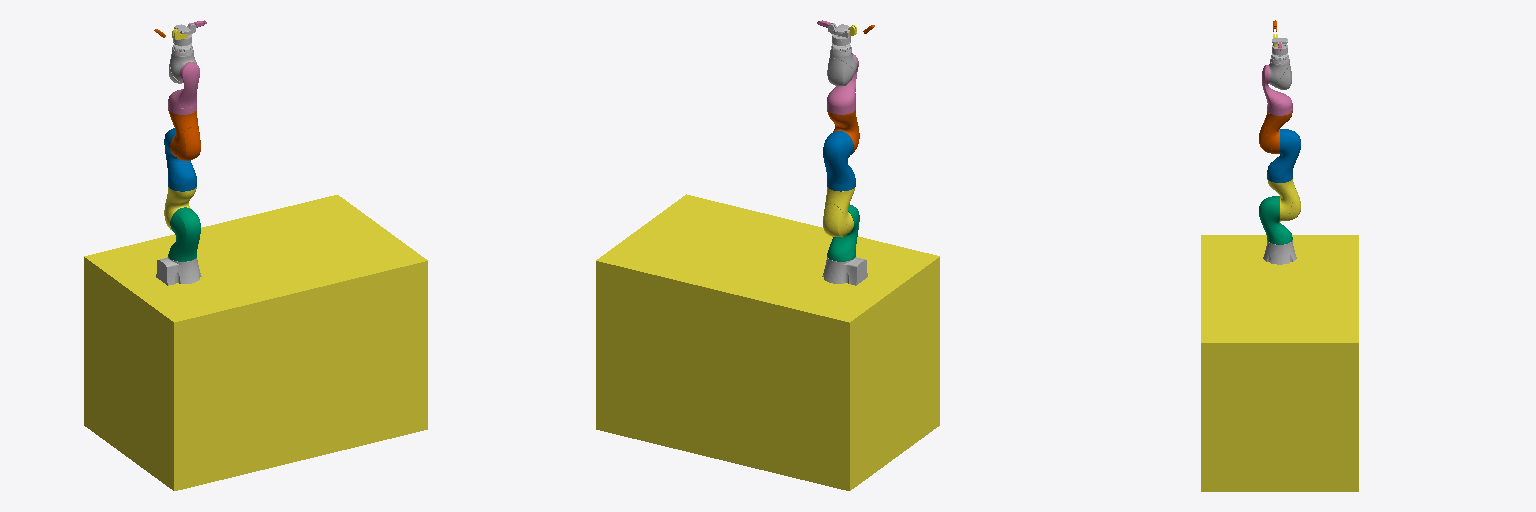
The robot description file, URDF, robot "iiwa7":
<robot name="iiwa7">
<link name="world">
    <inertial>
        <origin rpy="0.0 0.0 0.0" xyz="0.0 0.0 0.0"/>
        <mass value="0.0"/>
        <inertia ixx="0.0" ixy="0.0" ixz="0.0" iyy="0.0" iyz="0.0" izz="0.0"/>
    </inertial>
</link>
<link name="iiwa_link_0">
    <inertial>
        <origin rpy="0.0 0.0 0.0" xyz="-0.1 0.0 0.07"/>
        <mass value="5.0"/>
        <inertia ixx="0.05" ixy="0.0" ixz="0.0" iyy="0.06" iyz="0.0" izz="0.03"/>
    </inertial>
    <visual>
        <origin rpy="0.0 0.0 0.0" xyz="0.0 0.0 0.0"/>
        <geometry>
            <mesh filename="package://iiwa_description/meshes/iiwa7/visual/link_0.obj"/>
        </geometry>
        <material name="Grey">
        </material>
    </visual>
    <collision>
        <origin rpy="0.0 0.0 0.0" xyz="0.0 0.0 0.0"/>
        <geometry>
            <mesh filename="package://iiwa_description/meshes/iiwa7/collision/link_0_vhacd.obj"/>
        </geometry>
        <material name="Grey">
        </material>
    </collision>
    <self_collision_checking>
        <origin rpy="0.0 0.0 0.0" xyz="0.0 0.0 0.0"/>
        <geometry>
            <capsule length="0.25" radius="0.15"/>
        </geometry>
    </self_collision_checking>
</link>
<link name="iiwa_link_1">
    <inertial>
        <origin rpy="0.0 0.0 0.0" xyz="0.0 -0.03 0.12"/>
        <mass value="3.4525"/>
        <inertia ixx="0.02183" ixy="0.0" ixz="0.0" iyy="0.007703" iyz="-0.003887" izz="0.02083"/>
    </inertial>
    <visual>
        <origin rpy="0.0 0.0 0.0" xyz="0.0 0.0 0.0075"/>
        <geometry>
            <mesh filename="package://iiwa_description/meshes/iiwa7/visual/link_1.obj"/>
        </geometry>
        <material name="Orange">
        </material>
    </visual>
    <collision>
        <origin rpy="0.0 0.0 0.0" xyz="0.0 0.0 0.0075"/>
        <geometry>
            <mesh filename="package://iiwa_description/meshes/iiwa7/collision/link_1_vhacd.obj"/>
        </geometry>
        <material name="Orange">
        </material>
    </collision>
</link>
<link name="iiwa_link_2">
    <inertial>
        <origin rpy="0.0 0.0 0.0" xyz="0.0003 0.059 0.042"/>
        <mass value="3.4821"/>
        <inertia ixx="0.02076" ixy="0.0" ixz="-0.003626" iyy="0.02179" iyz="0.0" izz="0.00779"/>
    </inertial>
    <visual>
        <origin rpy="0.0 0.0 0.0" xyz="0.0 0.0 0.0"/>
        <geometry>
            <mesh filename="package://iiwa_description/meshes/iiwa7/visual/link_2.obj"/>
        </geometry>
        <material name="Orange">
        </material>
    </visual>
    <collision>
        <origin rpy="0.0 0.0 0.0" xyz="0.0 0.0 0.0"/>
        <geometry>
            <mesh filename="package://iiwa_description/meshes/iiwa7/collision/link_2_vhacd.obj"/>
        </geometry>
        <material name="Orange">
        </material>
    </collision>
</link>
<link name="iiwa_link_3">
    <inertial>
        <origin rpy="0.0 0.0 0.0" xyz="0.0 0.03 0.13"/>
        <mass value="4.05623"/>
        <inertia ixx="0.03204" ixy="0.0" ixz="0.0" iyy="0.00972" iyz="0.006227" izz="0.03042"/>
    </inertial>
    <visual>
        <origin rpy="0.0 0.0 0.0" xyz="0.0 0.0 -0.026"/>
        <geometry>
            <mesh filename="package://iiwa_description/meshes/iiwa7/visual/link_3.obj"/>
        </geometry>
        <material name="Orange">
        </material>
    </visual>
    <collision>
        <origin rpy="0.0 0.0 0.0" xyz="0.0 0.0 -0.026"/>
        <geometry>
            <mesh filename="package://iiwa_description/meshes/iiwa7/collision/link_3_vhacd.obj"/>
        </geometry>
        <material name="Orange">
        </material>
    </collision>
</link>
<link name="iiwa_link_4">
    <inertial>
        <origin rpy="0.0 0.0 0.0" xyz="0.0 0.067 0.034"/>
        <mass value="3.4822"/>
        <inertia ixx="0.02178" ixy="0.0" ixz="0.0" iyy="0.02075" iyz="-0.003625" izz="0.007785"/>
    </inertial>
    <visual>
        <origin rpy="0.0 0.0 0.0" xyz="0.0 0.0 0.0"/>
        <geometry>
            <mesh filename="package://iiwa_description/meshes/iiwa7/visual/link_4.obj"/>
        </geometry>
        <material name="Orange">
        </material>
    </visual>
    <collision>
        <origin rpy="0.0 0.0 0.0" xyz="0.0 0.0 0.0"/>
        <geometry>
            <mesh filename="package://iiwa_description/meshes/iiwa7/collision/link_4_vhacd.obj"/>
        </geometry>
        <material name="Orange">
        </material>
    </collision>
</link>
<link name="iiwa_link_5">
    <inertial>
        <origin rpy="0.0 0.0 0.0" xyz="0.0001 0.021 0.076"/>
        <mass value="2.1633"/>
        <inertia ixx="0.01287" ixy="0.0" ixz="0.0" iyy="0.005708" iyz="-0.003946" izz="0.01112"/>
    </inertial>
    <visual>
        <origin rpy="0.0 0.0 0.0" xyz="0.0 0.0 -0.026"/>
        <geometry>
            <mesh filename="package://iiwa_description/meshes/iiwa7/visual/link_5.obj"/>
        </geometry>
        <material name="Orange">
        </material>
    </visual>
    <collision>
        <origin rpy="0.0 0.0 0.0" xyz="0.0 0.0 -0.026"/>
        <geometry>
            <mesh filename="package://iiwa_description/meshes/iiwa7/collision/link_5_vhacd.obj"/>
        </geometry>
        <material name="Orange">
        </material>
    </collision>
</link>
<link name="iiwa_link_6">
    <inertial>
        <origin rpy="0.0 0.0 0.0" xyz="0.0 0.0006 0.0004"/>
        <mass value="2.3466"/>
        <inertia ixx="0.006509" ixy="0.0" ixz="0.0" iyy="0.006259" iyz="0.00031891" izz="0.004527"/>
    </inertial>
    <visual>
        <origin rpy="0.0 0.0 0.0" xyz="0.0 0.0 0.0"/>
        <geometry>
            <mesh filename="package://iiwa_description/meshes/iiwa7/visual/link_6.obj"/>
        </geometry>
        <material name="Orange">
        </material>
    </visual>
    <collision>
        <origin rpy="0.0 0.0 0.0" xyz="0.0 0.0 0.0"/>
        <geometry>
            <mesh filename="package://iiwa_description/meshes/iiwa7/collision/link_6_vhacd.obj"/>
        </geometry>
        <material name="Orange">
        </material>
    </collision>
</link>
<link name="iiwa_link_7">
    <inertial>
        <origin rpy="0.0 0.0 0.0" xyz="0.0 0.0 0.02"/>
        <mass value="3.129"/>
        <inertia ixx="0.01464" ixy="0.0005912" ixz="0.0" iyy="0.01465" iyz="0.0" izz="0.002872"/>
    </inertial>
    <visual>
        <origin rpy="0.0 0.0 0.0" xyz="0.0 0.0 -0.0005"/>
        <geometry>
            <mesh filename="package://iiwa_description/meshes/iiwa7/visual/link_7.obj"/>
        </geometry>
        <material name="Grey">
        </material>
    </visual>
    <collision>
        <origin rpy="0.0 0.0 0.0" xyz="0.0 0.0 -0.0005"/>
        <geometry>
            <mesh filename="package://iiwa_description/meshes/iiwa7/collision/link_7_vhacd.obj"/>
        </geometry>
        <material name="Grey">
        </material>
    </collision>
</link>
<link name="iiwa_link_ee">
    <inertial>
        <origin rpy="0.0 0.0 0.0" xyz="0.0 0.0 0.0"/>
        <mass value="0.0"/>
        <inertia ixx="0.0" ixy="0.0" ixz="0.0" iyy="0.0" iyz="0.0" izz="0.0"/>
    </inertial>
</link>
<link name="hand_base_link">
    <inertial>
        <origin rpy="0.0 0.0 0.0" xyz="0.0 0.0 0.0"/>
        <mass value="0.0"/>
        <inertia ixx="0.0" ixy="0.0" ixz="0.0" iyy="0.0" iyz="0.0" izz="0.0"/>
    </inertial>
</link>
<link name="table1">
    <inertial>
        <mass value="10.0"/>
        <inertia ixx="1.25" ixy="0.0" ixz="0.0" iyy="2.24" iyz="0.0" izz="2.2"/>
    </inertial>
    <visual>
        <geometry>
            <mesh filename="package://bullet_ros_kuka/meshes/visual/table1.obj"/>
        </geometry>
        <material name="Orange">
        </material>
        <origin rpy="0.0 0.0 0.0" xyz="0.0 0.0 -0.44"/>
    </visual>
    <collision>
        <geometry>
            <mesh filename="package://bullet_ros_kuka/meshes/collision/table1_vhacd.obj"/>
        </geometry>
        <material name="Red">
        </material>
        <origin rpy="0.0 0.0 0.0" xyz="0.0 0.0 -0.44"/>
    </collision>
</link>
<link name="table1_mount">
    <inertial>
        <origin rpy="0.0 0.0 0.0" xyz="0.0 0.0 0.0"/>
        <mass value="0.0"/>
        <inertia ixx="0.0" ixy="0.0" ixz="0.0" iyy="0.0" iyz="0.0" izz="0.0"/>
    </inertial>
</link>
<link name="bh_base_link">
    <inertial>
        <mass value="0.9"/>
        <origin xyz="0.0 0.0 0.0"/>
        <inertia ixx="1.0" ixy="0.0" ixz="0.0" iyy="1.0" iyz="0.0" izz="1.0"/>
    </inertial>
    <visual>
        <origin rpy="0.0 0.0 0.0" xyz="0.0 0.0 0.0"/>
        <geometry>
            <mesh filename="package://barrett_hand/meshes/palm_280.obj"/>
        </geometry>
        <material name="Grey">
            <color rgba="0.75 0.75 0.75 1.0"/>
        </material>
    </visual>
    <collision>
        <origin rpy="0.0 0.0 0.0" xyz="0.0 0.0 0.0"/>
        <geometry>
            <mesh filename="package://barrett_hand/meshes/palm_280_vhacd.obj"/>
        </geometry>
        <contact_coefficients kd="1.0" kp="1000.0" mu="0.0"/>
    </collision>
</link>
<link name="bh_finger_32_link">
    <inertial>
        <mass value="0.01"/>
        <origin rpy="0.0 0.0 0.0" xyz="0.0 0.0 0.0"/>
        <inertia ixx="0.01" ixy="0.0" ixz="0.0" iyy="0.01" iyz="0.0" izz="0.01"/>
    </inertial>
    <visual>
        <origin rpy="0.0 0.0 0.0" xyz="0.0 0.0 0.0"/>
        <geometry>
            <mesh filename="package://barrett_hand/meshes/finger_32.obj"/>
        </geometry>
        <material name="Blue">
        </material>
    </visual>
    <collision>
        <origin rpy="0.0 0.0 0.0" xyz="0.0 0.0 0.0"/>
        <geometry>
            <mesh filename="package://barrett_hand/meshes/finger_32_vhacd.obj"/>
        </geometry>
        <contact_coefficients kd="1.0" kp="1000.0" mu="0.0"/>
    </collision>
</link>
<link name="bh_finger_33_link">
    <inertial>
        <mass value="0.01"/>
        <origin rpy="0.0 0.0 0.0" xyz="0.0 0.0 0.0"/>
        <inertia ixx="0.01" ixy="0.0" ixz="0.0" iyy="0.01" iyz="0.0" izz="0.01"/>
    </inertial>
    <visual>
        <origin rpy="0.0 0.0 0.0" xyz="0.0 0.0 0.0"/>
        <geometry>
            <mesh filename="package://barrett_hand/meshes/finger_tip_33.obj"/>
        </geometry>
        <material name="Blue">
        </material>
    </visual>
    <collision>
        <origin rpy="0.0 0.0 0.0" xyz="0.0 0.0 0.0"/>
        <geometry>
            <mesh filename="package://barrett_hand/meshes/finger_tip_33_vhacd.obj"/>
        </geometry>
        <contact_coefficients kd="1.0" kp="1000.0" mu="0.0"/>
    </collision>
</link>
<link name="bh_finger_11_link">
    <inertial>
        <mass value="0.01"/>
        <origin rpy="0.0 0.0 0.0" xyz="-0.046 0.0 0.0"/>
        <inertia ixx="0.01" ixy="0.0" ixz="0.0" iyy="0.01" iyz="0.0" izz="0.01"/>
    </inertial>
    <visual>
        <origin rpy="0.0 0.0 0.0" xyz="0.0 0.0 0.0"/>
        <geometry>
            <mesh filename="package://barrett_hand/meshes/knuckle.obj"/>
        </geometry>
        <material name="Green">
        </material>
    </visual>
    <collision>
        <origin rpy="0.0 0.0 0.0" xyz="0.0 0.0 0.0"/>
        <geometry>
            <mesh filename="package://barrett_hand/meshes/knuckle_vhacd.obj"/>
        </geometry>
    </collision>
</link>
<link name="bh_finger_12_link">
    <inertial>
        <mass value="0.01"/>
        <origin rpy="0.0 0.0 0.0" xyz="0.0 0.0 0.0"/>
        <inertia ixx="0.01" ixy="0.0" ixz="0.0" iyy="0.01" iyz="0.0" izz="0.01"/>
    </inertial>
    <visual>
        <origin rpy="0.0 0.0 0.0" xyz="0.0 0.0 0.0"/>
        <geometry>
            <mesh filename="package://barrett_hand/meshes/finger_12.obj"/>
        </geometry>
        <material name="Blue">
        </material>
    </visual>
    <collision>
        <origin rpy="0.0 0.0 0.0" xyz="0.0 0.0 0.0"/>
        <geometry>
            <mesh filename="package://barrett_hand/meshes/finger_12_vhacd.obj"/>
        </geometry>
        <contact_coefficients kd="1.0" kp="1000.0" mu="0.0"/>
    </collision>
</link>
<link name="bh_finger_13_link">
    <inertial>
        <mass value="0.01"/>
        <origin rpy="0.0 0.0 0.0" xyz="0.0 0.0 0.0"/>
        <inertia ixx="0.01" ixy="0.0" ixz="0.0" iyy="0.01" iyz="0.0" izz="0.01"/>
    </inertial>
    <visual>
        <origin rpy="0.0 0.0 0.0" xyz="0.0 0.0 0.0"/>
        <geometry>
            <mesh filename="package://barrett_hand/meshes/finger_tip_13.obj"/>
        </geometry>
        <material name="Blue">
        </material>
    </visual>
    <collision>
        <origin rpy="0.0 0.0 0.0" xyz="0.0 0.0 0.0"/>
        <geometry>
            <mesh filename="package://barrett_hand/meshes/finger_tip_13_vhacd.obj"/>
        </geometry>
        <contact_coefficients kd="1.0" kp="1000.0" mu="0.0"/>
    </collision>
</link>
<link name="bh_finger_21_link">
    <inertial>
        <mass value="0.01"/>
        <origin rpy="0.0 0.0 0.0" xyz="-0.046 0.0 0.0"/>
        <inertia ixx="0.01" ixy="0.0" ixz="0.0" iyy="0.01" iyz="0.0" izz="0.01"/>
    </inertial>
    <visual>
        <origin rpy="0.0 0.0 0.0" xyz="0.0 0.0 0.0"/>
        <geometry>
            <mesh filename="package://barrett_hand/meshes/knuckle_2.obj"/>
        </geometry>
        <material name="Green">
        </material>
    </visual>
    <collision>
        <origin rpy="0.0 0.0 0.0" xyz="0.0 0.0 0.0"/>
        <geometry>
            <mesh filename="package://barrett_hand/meshes/knuckle_2_vhacd.obj"/>
        </geometry>
    </collision>
</link>
<link name="bh_finger_22_link">
    <inertial>
        <mass value="0.01"/>
        <origin rpy="0.0 0.0 0.0" xyz="0.0 0.0 0.0"/>
        <inertia ixx="0.01" ixy="0.0" ixz="0.0" iyy="0.01" iyz="0.0" izz="0.01"/>
    </inertial>
    <visual>
        <origin rpy="0.0 0.0 0.0" xyz="0.0 0.0 0.0"/>
        <geometry>
            <mesh filename="package://barrett_hand/meshes/finger_22.obj"/>
        </geometry>
        <material name="Blue">
        </material>
    </visual>
    <collision>
        <origin rpy="0.0 0.0 0.0" xyz="0.0 0.0 0.0"/>
        <geometry>
            <mesh filename="package://barrett_hand/meshes/finger_22_vhacd.obj"/>
        </geometry>
        <contact_coefficients kd="1.0" kp="1000.0" mu="0.0"/>
    </collision>
</link>
<link name="bh_finger_23_link">
    <inertial>
        <mass value="0.01"/>
        <origin rpy="0.0 0.0 0.0" xyz="0.0 0.0 0.0"/>
        <inertia ixx="0.01" ixy="0.0" ixz="0.0" iyy="0.01" iyz="0.0" izz="0.01"/>
    </inertial>
    <visual>
        <origin rpy="0.0 0.0 0.0" xyz="0.0 0.0 0.0"/>
        <geometry>
            <mesh filename="package://barrett_hand/meshes/finger_tip_23.obj"/>
        </geometry>
        <material name="Blue">
        </material>
    </visual>
    <collision>
        <origin rpy="0.0 0.0 0.0" xyz="0.0 0.0 0.0"/>
        <geometry>
            <mesh filename="package://barrett_hand/meshes/finger_tip_23_vhacd.obj"/>
        </geometry>
        <contact_coefficients kd="1.0" kp="1000.0" mu="0.0"/>
    </collision>
</link>
<joint name="world_iiwa_joint" type="fixed">
    <origin rpy="0.0 0.0 0.0" xyz="0.0 0.0 0.0"/>
    <parent link="world"/>
    <child link="iiwa_link_0"/>
</joint>
<joint name="iiwa_joint_1" type="revolute">
    <origin rpy="0.0 0.0 0.0" xyz="0.0 0.0 0.15"/>
    <axis xyz="0.0 0.0 1.0"/>
    <limit effort="300.0" lower="-2.9670597283903604" upper="2.9670597283903604" velocity="10.0"/>
    <safety_controller k_position="100.0" k_velocity="2.0" soft_lower_limit="-2.9321531433504737" soft_upper_limit="2.9321531433504737"/>
    <dynamics damping="0.5"/>
    <parent link="iiwa_link_0"/>
    <child link="iiwa_link_1"/>
</joint>
<joint name="iiwa_joint_2" type="revolute">
    <origin rpy="1.5707963267948966 0.0 3.141592653589793" xyz="0.0 0.0 0.19"/>
    <axis xyz="0.0 0.0 1.0"/>
    <limit effort="300.0" lower="-2.0943951023931953" upper="2.0943951023931953" velocity="10.0"/>
    <safety_controller k_position="100.0" k_velocity="2.0" soft_lower_limit="-2.0594885173533086" soft_upper_limit="2.0594885173533086"/>
    <dynamics damping="0.5"/>
    <parent link="iiwa_link_1"/>
    <child link="iiwa_link_2"/>
</joint>
<joint name="iiwa_joint_3" type="revolute">
    <origin rpy="1.5707963267948966 0.0 3.141592653589793" xyz="0.0 0.21 0.0"/>
    <axis xyz="0.0 0.0 1.0"/>
    <limit effort="300.0" lower="-2.9670597283903604" upper="2.9670597283903604" velocity="10.0"/>
    <safety_controller k_position="100.0" k_velocity="2.0" soft_lower_limit="-2.9321531433504737" soft_upper_limit="2.9321531433504737"/>
    <dynamics damping="0.5"/>
    <parent link="iiwa_link_2"/>
    <child link="iiwa_link_3"/>
</joint>
<joint name="iiwa_joint_4" type="revolute">
    <origin rpy="1.5707963267948966 0.0 0.0" xyz="0.0 0.0 0.19"/>
    <axis xyz="0.0 0.0 1.0"/>
    <limit effort="300.0" lower="-2.0943951023931953" upper="2.0943951023931953" velocity="10.0"/>
    <safety_controller k_position="100.0" k_velocity="2.0" soft_lower_limit="-2.0594885173533086" soft_upper_limit="2.0594885173533086"/>
    <dynamics damping="0.5"/>
    <parent link="iiwa_link_3"/>
    <child link="iiwa_link_4"/>
</joint>
<joint name="iiwa_joint_5" type="revolute">
    <origin rpy="-1.5707963267948966 3.141592653589793 0.0" xyz="0.0 0.21 0.0"/>
    <axis xyz="0.0 0.0 1.0"/>
    <limit effort="300.0" lower="-2.9670597283903604" upper="2.9670597283903604" velocity="10.0"/>
    <safety_controller k_position="100.0" k_velocity="2.0" soft_lower_limit="-2.9321531433504737" soft_upper_limit="2.9321531433504737"/>
    <dynamics damping="0.5"/>
    <parent link="iiwa_link_4"/>
    <child link="iiwa_link_5"/>
</joint>
<joint name="iiwa_joint_6" type="revolute">
    <origin rpy="1.5707963267948966 0.0 0.0" xyz="0.0 0.0607 0.19"/>
    <axis xyz="0.0 0.0 1.0"/>
    <limit effort="300.0" lower="-2.0943951023931953" upper="2.0943951023931953" velocity="10.0"/>
    <safety_controller k_position="100.0" k_velocity="2.0" soft_lower_limit="-2.0594885173533086" soft_upper_limit="2.0594885173533086"/>
    <dynamics damping="0.5"/>
    <parent link="iiwa_link_5"/>
    <child link="iiwa_link_6"/>
</joint>
<joint name="iiwa_joint_7" type="revolute">
    <origin rpy="-1.5707963267948966 3.141592653589793 0.0" xyz="0.0 0.081 0.0607"/>
    <axis xyz="0.0 0.0 1.0"/>
    <limit effort="300.0" lower="-3.0543261909900763" upper="3.0543261909900763" velocity="10.0"/>
    <safety_controller k_position="100.0" k_velocity="2.0" soft_lower_limit="-3.01941960595019" soft_upper_limit="3.01941960595019"/>
    <dynamics damping="0.5"/>
    <parent link="iiwa_link_6"/>
    <child link="iiwa_link_7"/>
</joint>
<joint name="iiwa_joint_ee" type="fixed">
    <origin rpy="0.0 0.0 0.0" xyz="0.0 0.0 0.045"/>
    <parent link="iiwa_link_7"/>
    <child link="iiwa_link_ee"/>
</joint>
<joint name="hand_joint" type="fixed">
    <origin rpy="0.0 0.0 1.57" xyz="0.0 0.0 0.0"/>
    <parent link="iiwa_link_ee"/>
    <child link="hand_base_link"/>
</joint>
<joint name="table1_joint" type="fixed">
    <origin rpy="0.0 0.0 0.0" xyz="0.4 0.0 0.05"/>
    <parent link="world"/>
    <child link="table1"/>
</joint>
<joint name="table1_mount_joint" type="fixed">
    <origin rpy="0.0 0.0 0.0" xyz="-0.4625 0.0 0.0"/>
    <parent link="table1"/>
    <child link="table1_mount"/>
</joint>
<joint name="bh_base_joint" type="fixed">
    <origin rpy="0.0 0.0 0.0" xyz="0.0 0.0 0.0"/>
    <parent link="hand_base_link"/>
    <child link="bh_base_link"/>
</joint>
<joint name="bh_j32_joint" type="revolute">
    <origin rpy="1.5708 0.0 1.5708" xyz="0.0 -0.05 0.0754"/>
    <axis xyz="0.0 0.0 -1.0"/>
    <limit effort="30.0" lower="0.0" upper="2.44" velocity="2.0"/>
    <parent link="bh_base_link"/>
    <child link="bh_finger_32_link"/>
</joint>
<joint name="bh_j33_joint" type="revolute">
    <origin rpy="0.0 0.0 0.0" xyz="-0.069936 0.003 0.0"/>
    <axis xyz="0.0 0.0 -1.0"/>
    <mimic joint="bh_j32_joint" multiplier="0.3442622950819672"/>
    <limit effort="30.0" lower="0.0" upper="0.84" velocity="2.0"/>
    <parent link="bh_finger_32_link"/>
    <child link="bh_finger_33_link"/>
</joint>
<joint name="bh_j11_joint" type="revolute">
    <origin rpy="0.0 0.0 -1.5708" xyz="0.025 0.0 0.0415"/>
    <axis xyz="0.0 0.0 -1.0"/>
    <limit effort="30.0" lower="0.0" upper="3.1416" velocity="2.0"/>
    <parent link="bh_base_link"/>
    <child link="bh_finger_11_link"/>
</joint>
<joint name="bh_j12_joint" type="revolute">
    <origin rpy="1.5708 0.0 0.0" xyz="-0.05 0.0 0.0339"/>
    <axis xyz="0.0 0.0 -1.0"/>
    <limit effort="30.0" lower="0.0" upper="2.44" velocity="2.0"/>
    <parent link="bh_finger_11_link"/>
    <child link="bh_finger_12_link"/>
</joint>
<joint name="bh_j13_joint" type="revolute">
    <origin rpy="0.0 0.0 0.0" xyz="-0.069936 0.003 0.0"/>
    <axis xyz="0.0 0.0 -1.0"/>
    <mimic joint="bh_j12_joint" multiplier="0.3442622950819672"/>
    <limit effort="30.0" lower="0.0" upper="0.84" velocity="2.0"/>
    <parent link="bh_finger_12_link"/>
    <child link="bh_finger_13_link"/>
</joint>
<joint name="bh_j21_joint" type="revolute">
    <origin rpy="0.0 0.0 -1.5708" xyz="-0.025 0.0 0.0415"/>
    <axis xyz="0.0 0.0 1.0"/>
    <mimic joint="bh_j11_joint" multiplier="1.0"/>
    <limit effort="30.0" lower="0.0" upper="3.1416" velocity="2.0"/>
    <parent link="bh_base_link"/>
    <child link="bh_finger_21_link"/>
</joint>
<joint name="bh_j22_joint" type="revolute">
    <origin rpy="1.5708 -8.8281e-17 0.0" xyz="-0.05 0.0 0.0339"/>
    <axis xyz="0.0 0.0 -1.0"/>
    <limit effort="30.0" lower="0.0" upper="2.44" velocity="2.0"/>
    <parent link="bh_finger_21_link"/>
    <child link="bh_finger_22_link"/>
</joint>
<joint name="bh_j23_joint" type="revolute">
    <origin rpy="0.0 0.0 0.0" xyz="-0.069936 0.003 0.0"/>
    <axis xyz="0.0 0.0 -1.0"/>
    <mimic joint="bh_j22_joint" multiplier="0.3442622950819672"/>
    <limit effort="30.0" lower="0.0" upper="0.84" velocity="2.0"/>
    <parent link="bh_finger_22_link"/>
    <child link="bh_finger_23_link"/>
</joint>
</robot>

--- Facts derived from the render (not from the file) ---
The picture shows the robot from 3 angles, left to right: view 1: azimuth 30°, elevation 25°; view 2: azimuth 150°, elevation 25°; view 3: azimuth 270°, elevation 25°; orthographic projection.
Model iiwa7 with 22 links and 21 joints (15 revolute, 6 fixed), rooted at world, posed all joints at 0.
Visible links, largest first — view 1: table1, iiwa_link_1, iiwa_link_4, iiwa_link_5, iiwa_link_3, iiwa_link_0, iiwa_link_2; view 2: table1, iiwa_link_3, iiwa_link_2, iiwa_link_0, iiwa_link_1, iiwa_link_5, iiwa_link_6, iiwa_link_4; view 3: table1, iiwa_link_3, iiwa_link_1, iiwa_link_4, iiwa_link_2, iiwa_link_5, iiwa_link_0, iiwa_link_6.
Boxes of the visible links, x1,y1,x2,y2 form: table1: [84, 195, 427, 490]; iiwa_link_1: [168, 207, 200, 261]; iiwa_link_4: [168, 110, 200, 160]; iiwa_link_5: [168, 62, 199, 114]; iiwa_link_3: [164, 128, 196, 191]; iiwa_link_0: [156, 257, 201, 285]; iiwa_link_2: [164, 187, 196, 229]; table1: [596, 194, 939, 490]; iiwa_link_3: [823, 131, 855, 191]; iiwa_link_2: [823, 187, 854, 236]; iiwa_link_0: [822, 257, 867, 285]; iiwa_link_1: [827, 204, 859, 261]; iiwa_link_5: [827, 54, 858, 114]; iiwa_link_6: [827, 52, 856, 86]; iiwa_link_4: [827, 110, 859, 154]; table1: [1201, 235, 1358, 491]; iiwa_link_3: [1267, 129, 1300, 182]; iiwa_link_1: [1259, 196, 1292, 244]; iiwa_link_4: [1259, 111, 1292, 153]; iiwa_link_2: [1267, 179, 1300, 221]; iiwa_link_5: [1262, 65, 1292, 115]; iiwa_link_0: [1263, 240, 1296, 264]; iiwa_link_6: [1269, 61, 1291, 89].
Size in the robot's own frame: 1.39 by 0.855 by 2.21 metres.
13 mesh visuals loaded from 18 distinct referenced files (13 OBJ); not drawn: 5 (reference not matched to a file when rendering).